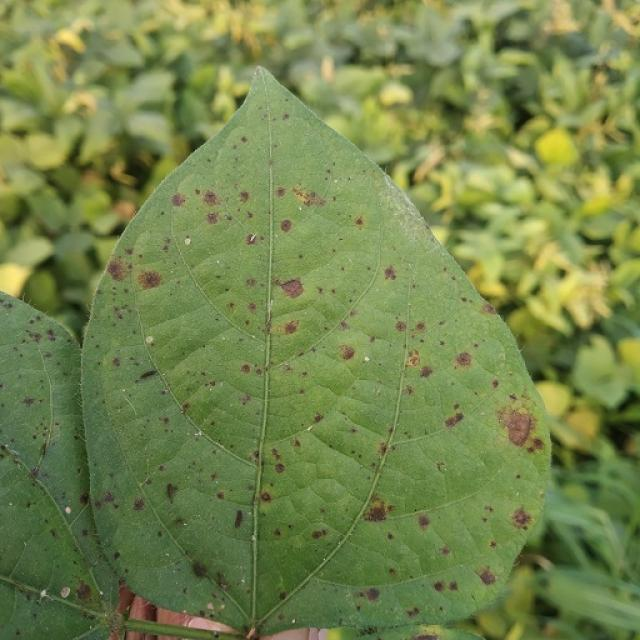Anthracnose: (181, 559, 239, 613), (504, 409, 533, 446), (278, 277, 312, 307), (292, 186, 326, 207), (106, 257, 132, 283), (363, 498, 390, 523), (136, 269, 163, 291), (510, 507, 532, 529), (105, 612, 124, 635), (477, 567, 496, 585), (444, 411, 464, 428), (454, 351, 472, 368), (201, 190, 220, 206), (75, 582, 91, 601), (406, 349, 421, 368), (363, 587, 380, 602), (339, 345, 355, 360), (283, 320, 298, 335), (383, 265, 397, 281), (192, 562, 206, 578), (166, 482, 177, 502), (171, 193, 186, 207), (139, 369, 158, 380), (132, 496, 145, 512), (419, 365, 433, 379), (418, 514, 431, 529), (234, 509, 244, 528), (205, 212, 219, 225), (280, 219, 292, 233), (406, 606, 420, 618), (39, 441, 48, 459), (311, 529, 326, 539), (395, 320, 407, 332), (238, 191, 250, 203), (433, 581, 445, 593), (22, 396, 35, 407), (246, 233, 257, 245), (354, 216, 365, 228), (274, 463, 285, 474), (275, 187, 286, 198), (260, 492, 271, 502), (240, 364, 251, 374), (247, 302, 257, 313), (60, 587, 70, 598), (252, 492, 259, 503), (145, 335, 153, 344), (282, 113, 290, 120), (184, 237, 191, 245), (65, 506, 72, 514)
Blackgram: (75, 66, 552, 639)
